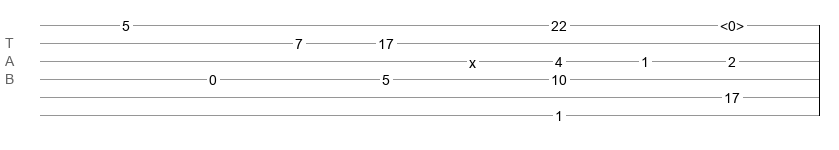0: (209, 72, 217, 82)
1: (555, 108, 563, 118), (641, 54, 649, 64)
10: (551, 72, 567, 82)
17: (378, 36, 394, 46), (724, 90, 740, 100)
2: (728, 54, 736, 64)
22: (551, 18, 567, 28)
4: (555, 54, 563, 64)
5: (122, 18, 130, 28), (382, 72, 390, 82)
7: (295, 36, 303, 46)
harmonic: (720, 18, 744, 28)
x: (469, 55, 476, 63)
